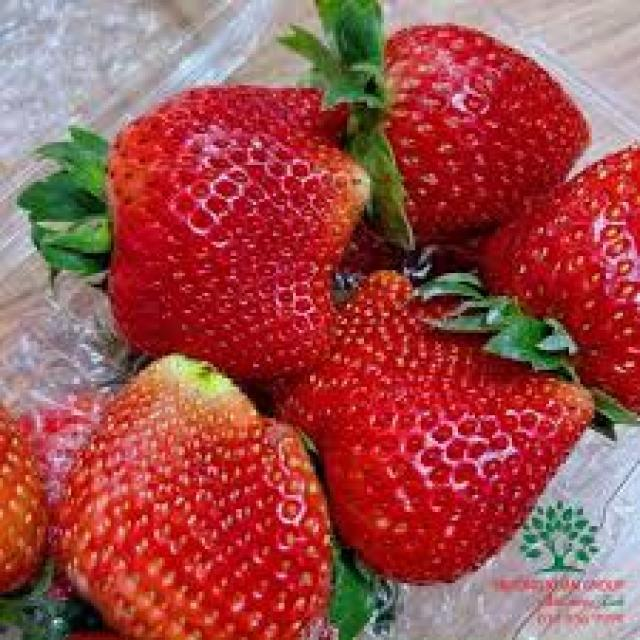Fruta sana: (302, 231, 596, 564), (39, 358, 336, 640), (94, 72, 354, 366), (359, 25, 594, 226), (485, 109, 640, 412)
